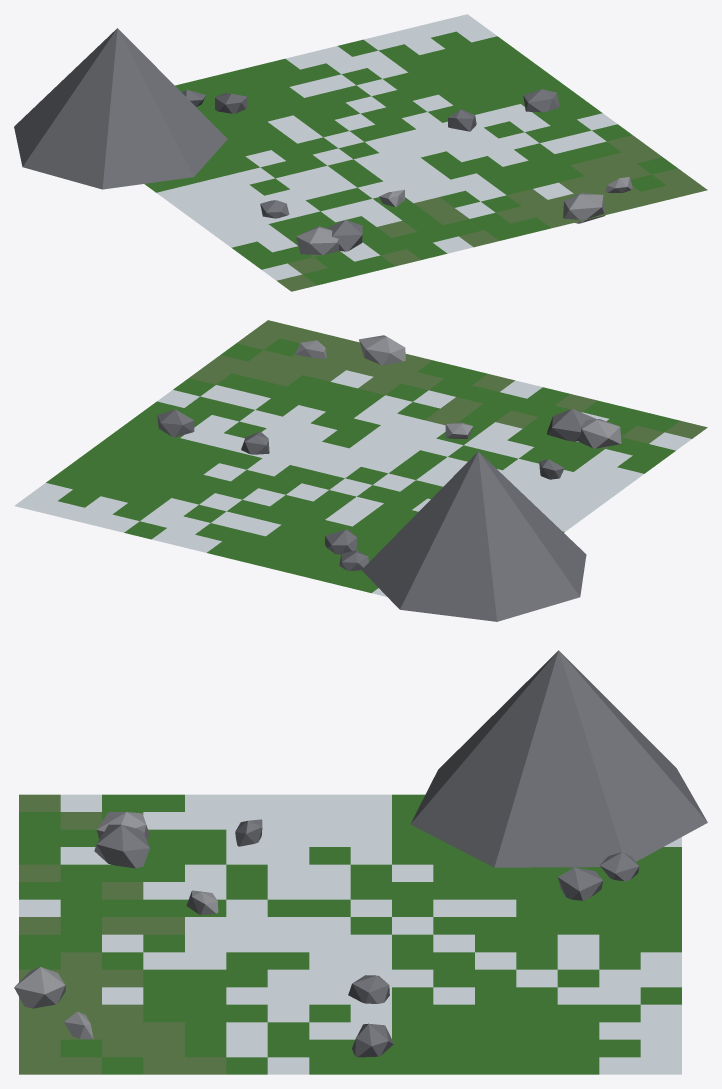
Rendered from chunk_10_1.glb.
3 renders of one model, top to bottom at view 1: azimuth 30°, elevation 25°; view 2: azimuth 150°, elevation 25°; view 3: azimuth 270°, elevation 25°, orthographic. The views are drawn at different scales.
Visible parts, largest first — view 1: chunk_10_1; view 2: chunk_10_1; view 3: chunk_10_1.
Boxes of the visible parts, x1,y1,x2,y2 form: chunk_10_1: [14, 14, 707, 291]; chunk_10_1: [14, 320, 707, 621]; chunk_10_1: [14, 650, 707, 1074].
Size of the model in its own units: 18.85 by 4.77 by 16.75.
